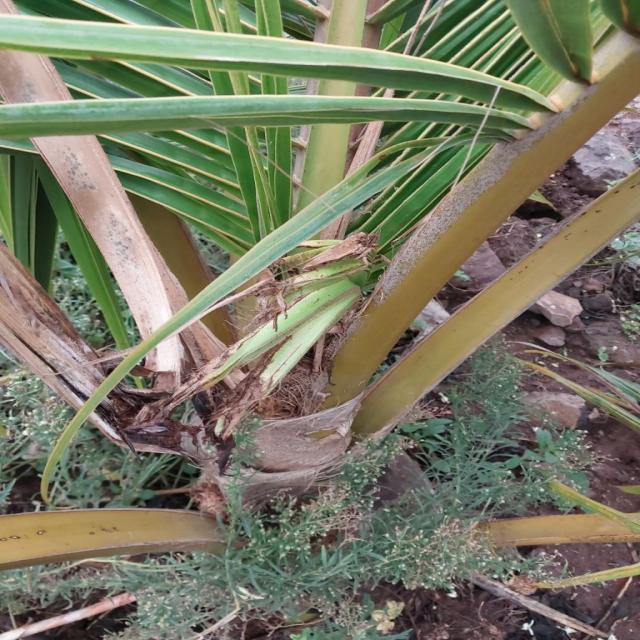bud rot: (0, 0, 638, 497)
